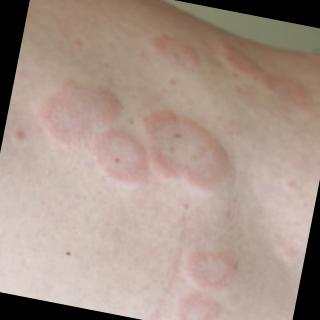urticaria: (61, 4, 269, 299)
